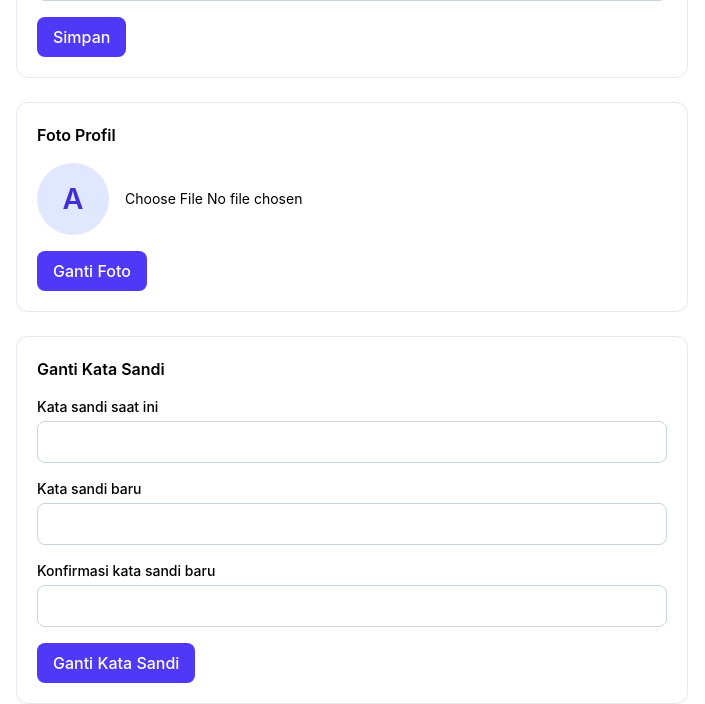
Test: kata sandi › mempertahankan isian dan menampilkan error jika gagal
The image size is (705, 704).
(page scrolled)
Type "lama" into the password field labelled "Kata sandi saat ini" at (352, 442), box [37,421,667,463]
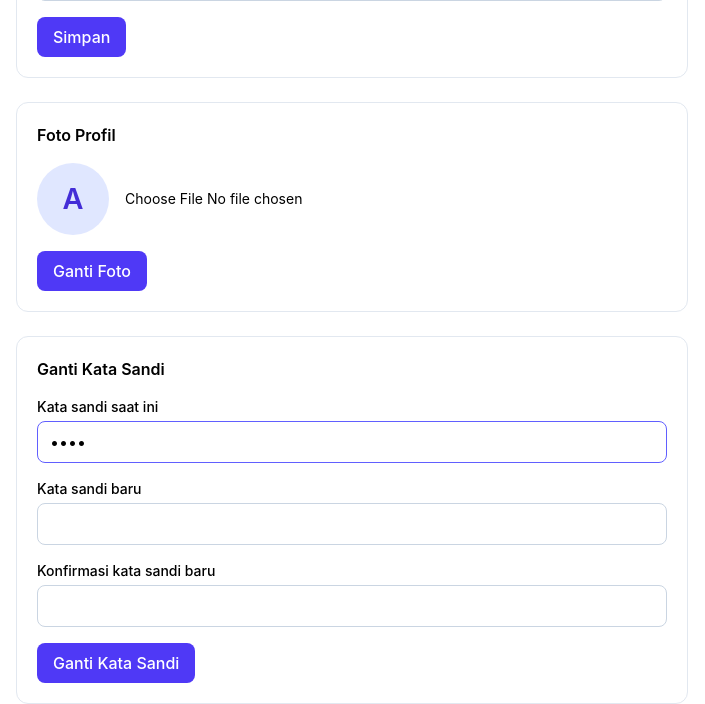
Type "baru" into the password field labelled "Kata sandi baru" at (352, 524), box [37,503,667,545]
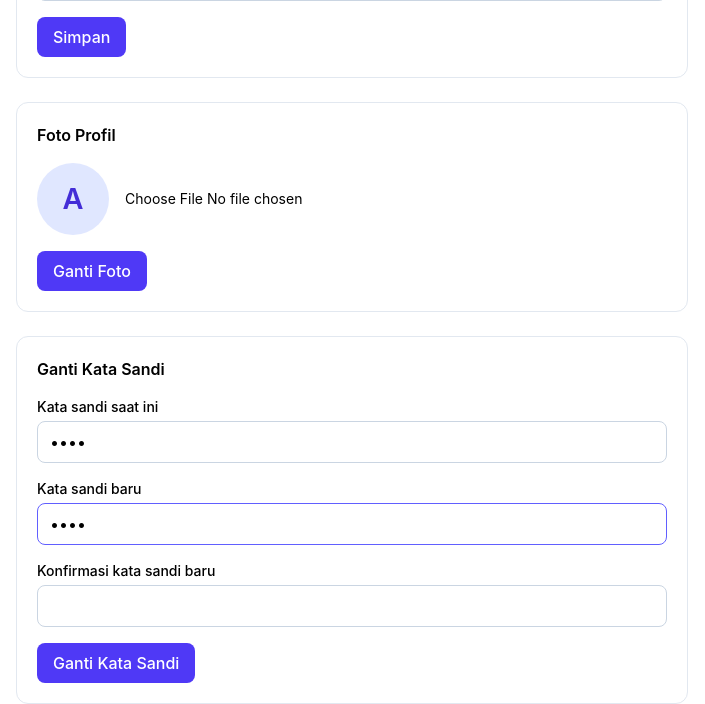
Type "baru" into the password field labelled "Konfirmasi kata sandi baru" at (352, 606), box [37,585,667,627]
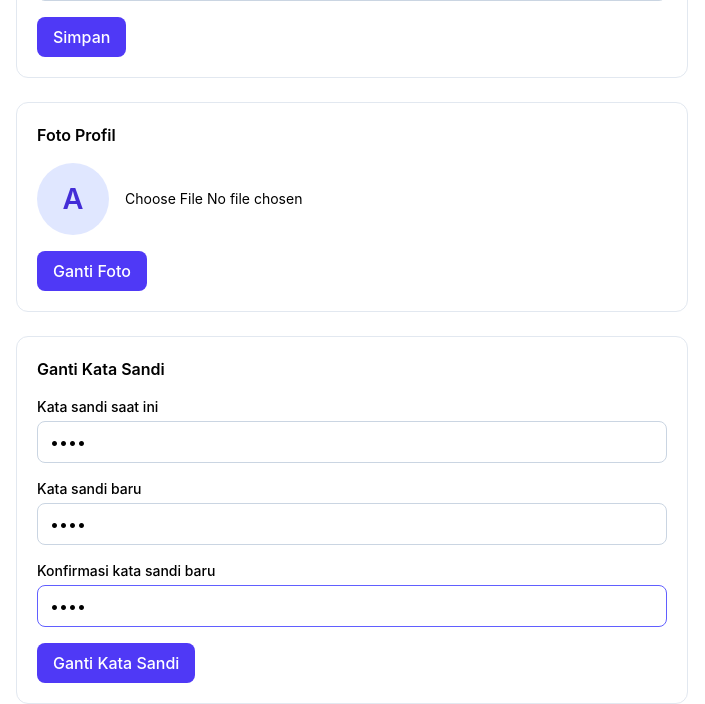
Click the button "Ganti Kata Sandi" at (116, 663), box [37,643,195,683]
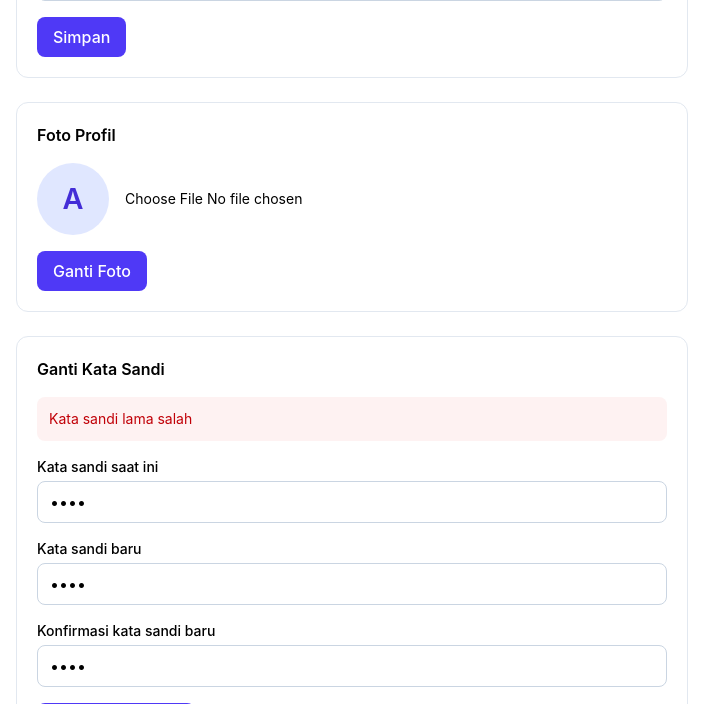
Check: the text "Kata sandi lama salah" is shown, box [49,410,192,427]
